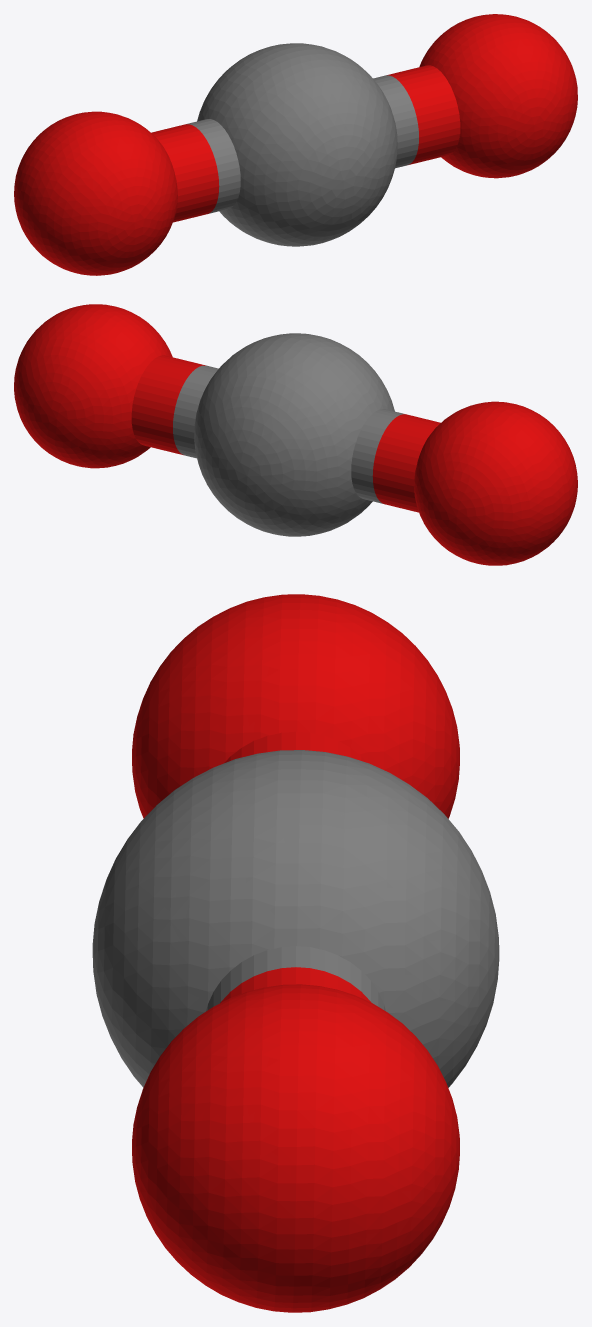
The picture shows the model from 3 angles, top to bottom: view 1: azimuth 30°, elevation 25°; view 2: azimuth 150°, elevation 25°; view 3: azimuth 270°, elevation 25°; orthographic projection. The views are drawn at different scales.
Visible parts, largest first — view 1: atoms, bonds; view 2: atoms, bonds; view 3: atoms, bonds.
Part boxes in pixels (x1=…): atoms: x1=14, y1=14, x2=577, y2=275; bonds: x1=151, y1=65, x2=460, y2=222; atoms: x1=14, y1=304, x2=577, y2=565; bonds: x1=131, y1=355, x2=440, y2=512; atoms: x1=92, y1=594, x2=499, y2=1312; bonds: x1=206, y1=731, x2=385, y2=1011.
Bounding box in the file's own units: 3.25 × 1.06 × 1.05.
